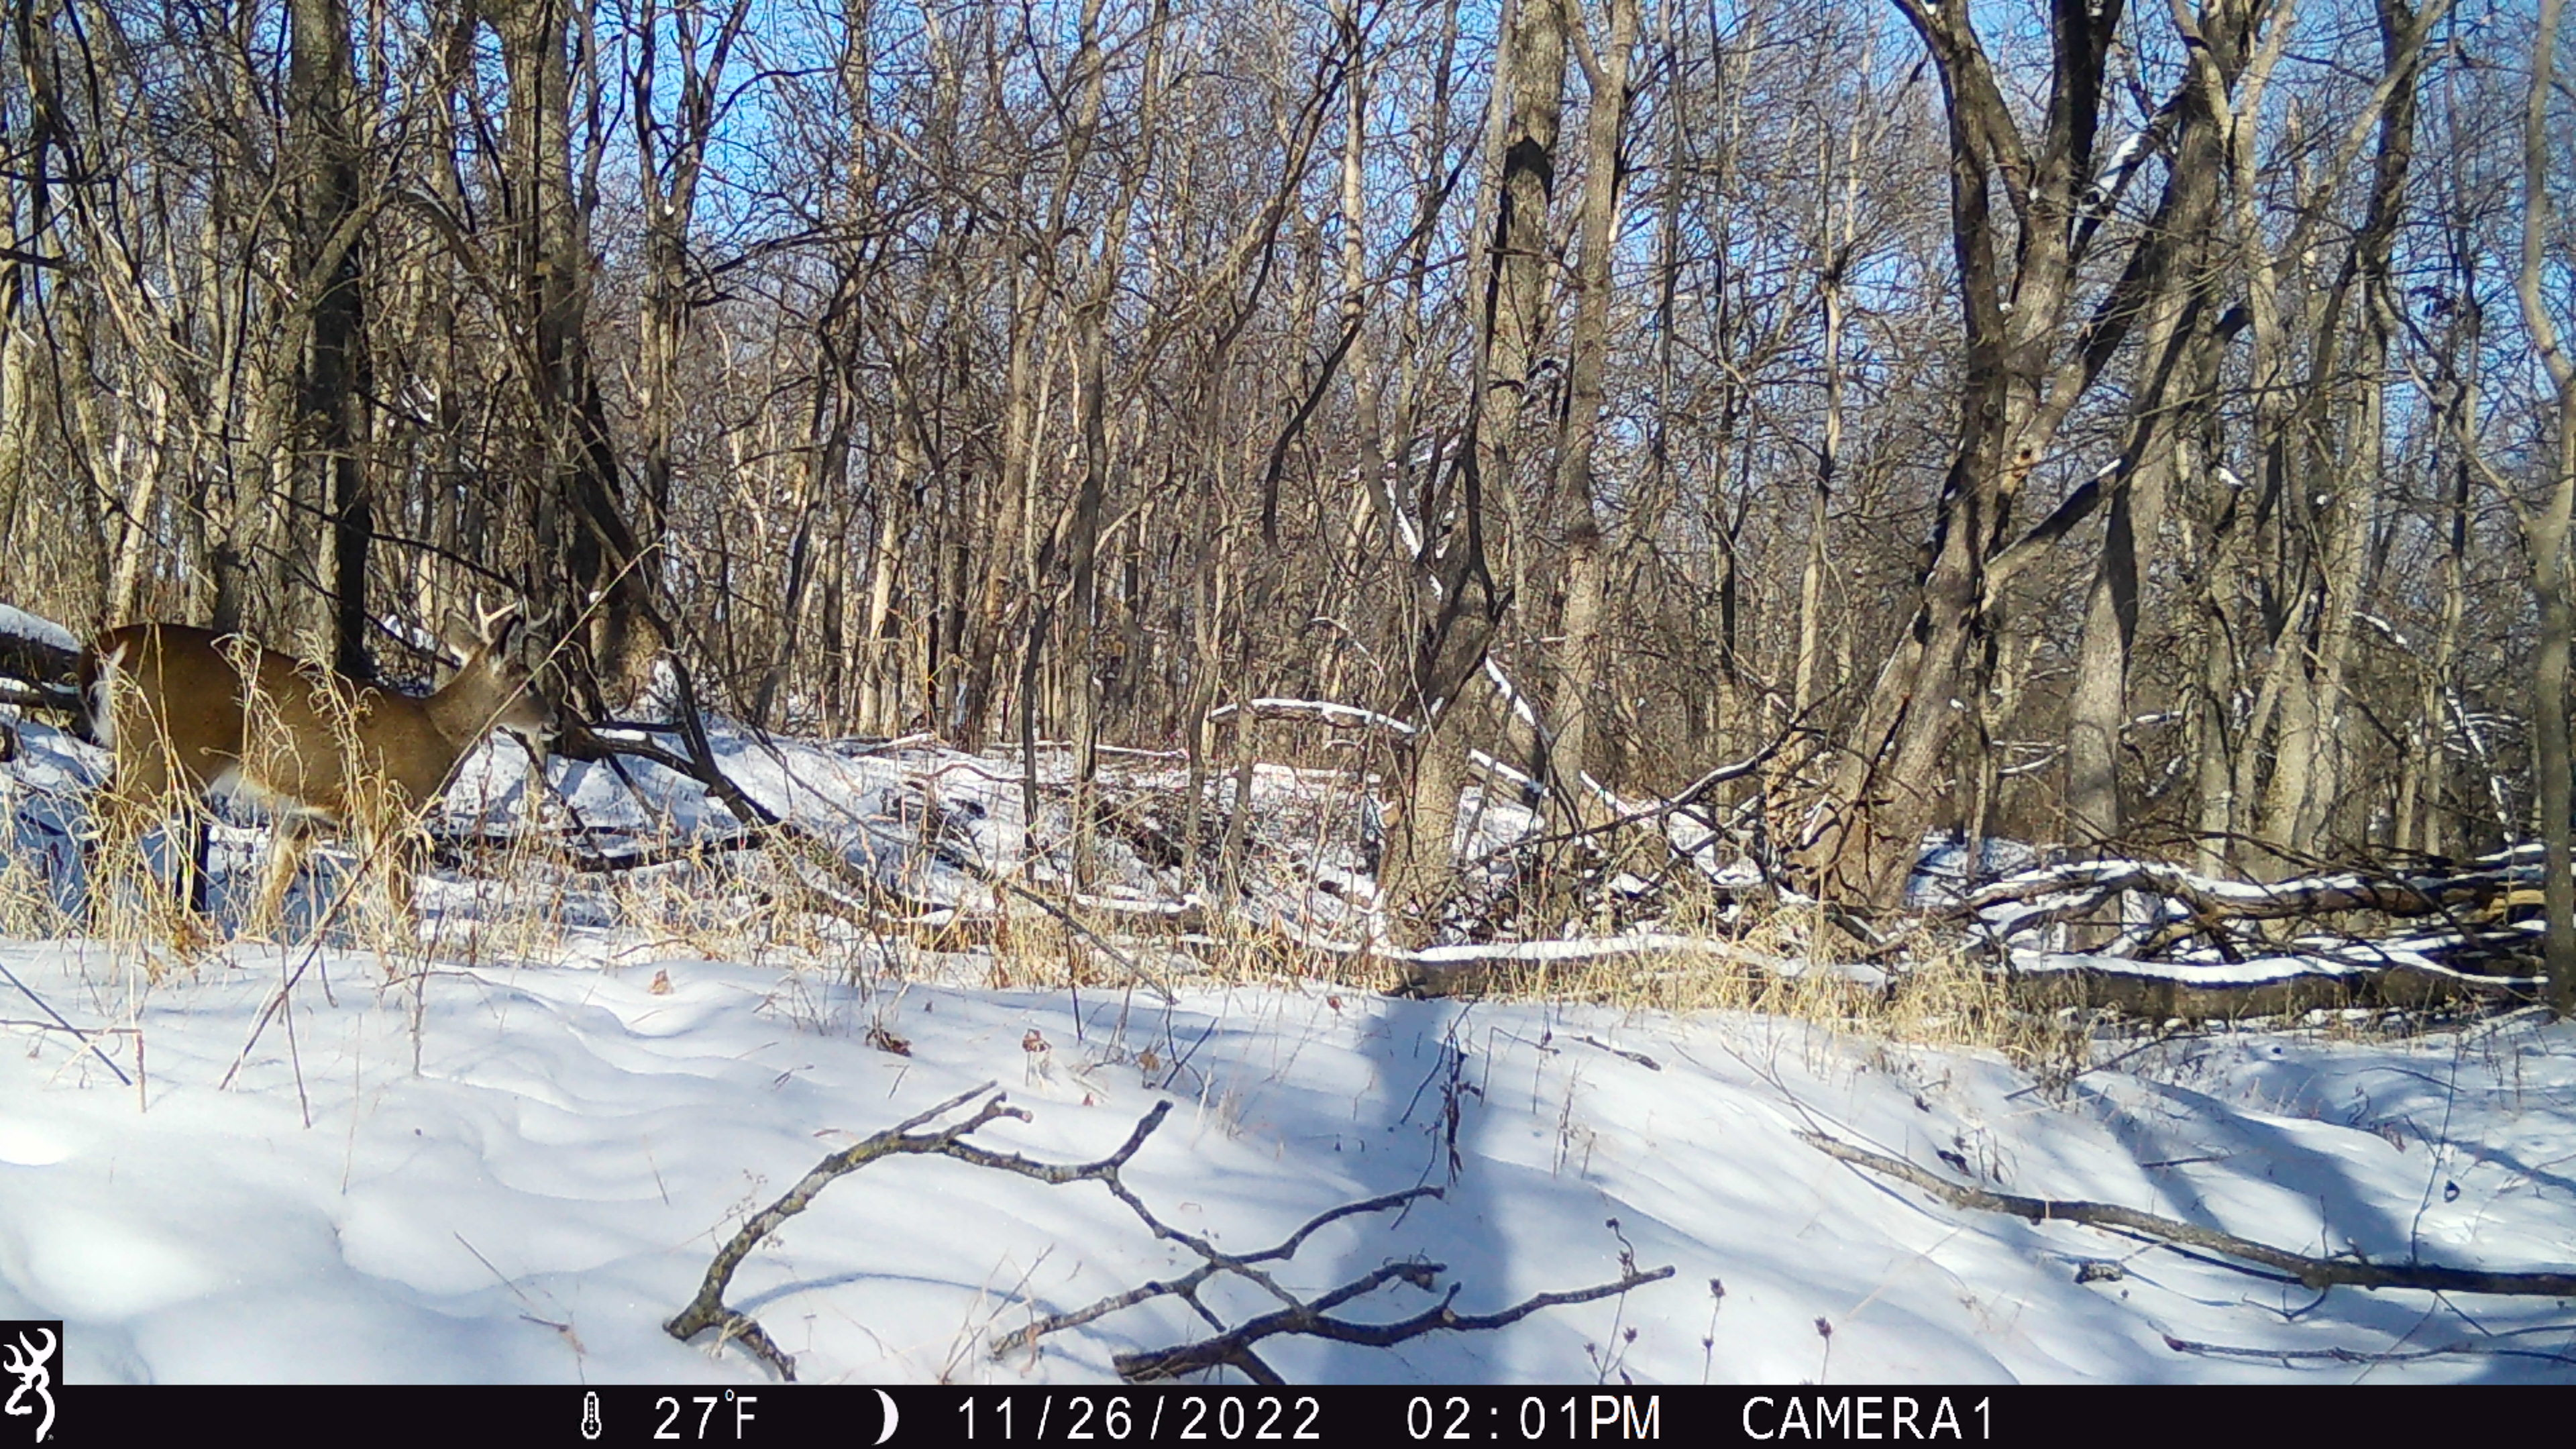DeerBuck: (74, 588, 563, 936)
DeerBuckHead: (441, 588, 563, 742)
